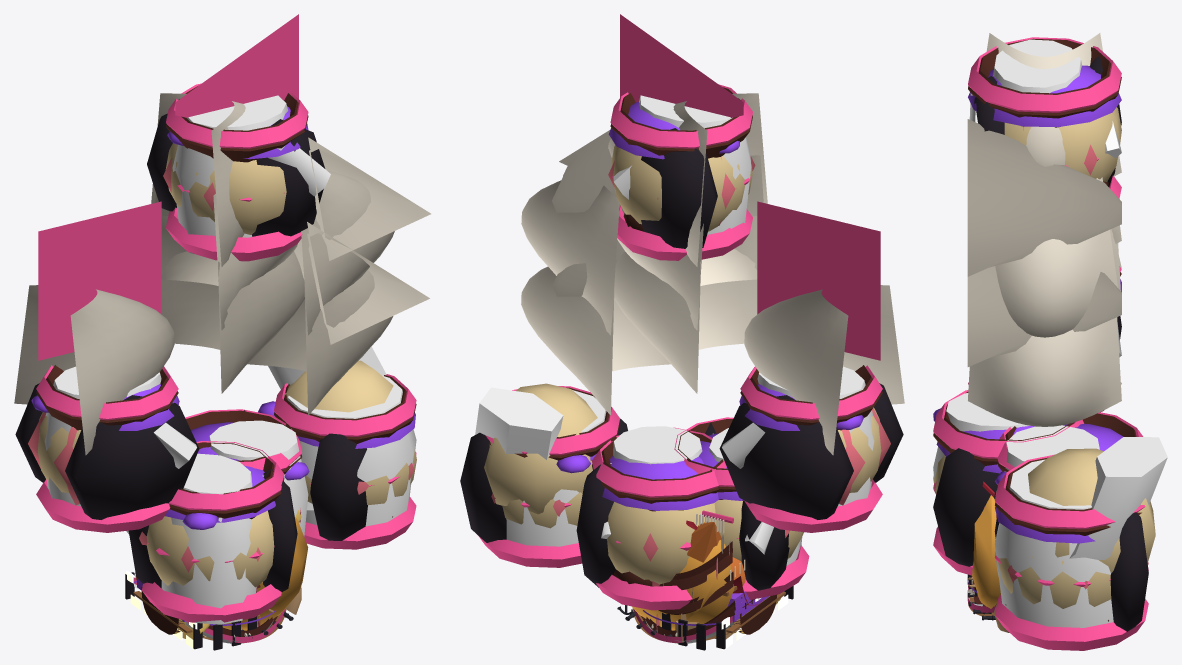
The model's file is navire-veyzo.glb.
The picture shows the model from 3 angles, left to right: view 1: azimuth 30°, elevation 25°; view 2: azimuth 150°, elevation 25°; view 3: azimuth 270°, elevation 25°; orthographic projection. The views are drawn at different scales.
Visible parts, largest first — view 1: matelot_corde.001, matelot_barreur.001, matelot_vigie.001, matelot_salut.001, drapeau.002, voile_artimon.001, voile_grande.002, voile_misaine.002, voile_misaine_hune.001, matelot_porteur.001, flamme.002, navire_corps.002 (+5 smaller); view 2: matelot_barreur.001, matelot_vigie.001, matelot_porteur.001, drapeau.002, voile_artimon.001, matelot_salut.001, matelot_salut_bras.001, voile_grande.002, navire_corps.002, voile_misaine.002, voile_misaine_hune.001, matelot_corde.001 (+5 smaller); view 3: matelot_salut.001, matelot_vigie.001, voile_foc.002, voile_misaine.002, matelot_salut_bras.001, matelot_corde.001, voile_misaine_hune.001, voile_foc2.001, matelot_porteur.001, navire_corps.002, voile_perroquet.002.
Part boxes in pixels (left/top/right/bottom): matelot_corde.001: left=126, top=441, right=297, bottom=624; matelot_barreur.001: left=15, top=365, right=199, bottom=532; matelot_vigie.001: left=147, top=83, right=330, bottom=261; matelot_salut.001: left=258, top=374, right=416, bottom=549; drapeau.002: left=38, top=201, right=161, bottom=360; voile_artimon.001: left=14, top=285, right=174, bottom=455; voile_grande.002: left=161, top=216, right=304, bottom=393; voile_misaine.002: left=247, top=270, right=393, bottom=415; voile_misaine_hune.001: left=301, top=170, right=394, bottom=335; matelot_porteur.001: left=185, top=409, right=309, bottom=536; flamme.002: left=175, top=14, right=298, bottom=117; navire_corps.002: left=125, top=508, right=308, bottom=650; matelot_barreur.001: left=719, top=365, right=903, bottom=532; matelot_vigie.001: left=608, top=84, right=755, bottom=260; matelot_porteur.001: left=576, top=426, right=726, bottom=610; drapeau.002: left=757, top=201, right=880, bottom=360; voile_artimon.001: left=744, top=285, right=904, bottom=455; matelot_salut.001: left=460, top=386, right=627, bottom=567; matelot_salut_bras.001: left=475, top=383, right=597, bottom=514; voile_grande.002: left=614, top=216, right=757, bottom=393; navire_corps.002: left=617, top=510, right=793, bottom=650; voile_misaine.002: left=521, top=266, right=670, bottom=415; voile_misaine_hune.001: left=521, top=180, right=619, bottom=335; matelot_corde.001: left=674, top=417, right=809, bottom=599; matelot_salut.001: left=994, top=454, right=1148, bottom=650; matelot_vigie.001: left=968, top=37, right=1121, bottom=198; voile_foc.002: left=967, top=119, right=1121, bottom=276; voile_misaine.002: left=968, top=317, right=1121, bottom=426; matelot_salut_bras.001: left=1028, top=437, right=1167, bottom=573; matelot_corde.001: left=933, top=390, right=1083, bottom=575; voile_misaine_hune.001: left=995, top=177, right=1117, bottom=337; voile_foc2.001: left=967, top=266, right=1121, bottom=366; matelot_porteur.001: left=995, top=412, right=1148, bottom=570; navire_corps.002: left=967, top=481, right=1009, bottom=632; voile_perroquet.002: left=986, top=33, right=1121, bottom=176.
Bounding box in the file's own units: 6.2 × 9 × 3.05.
